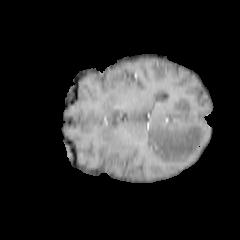glioma: (146, 100, 207, 163)
